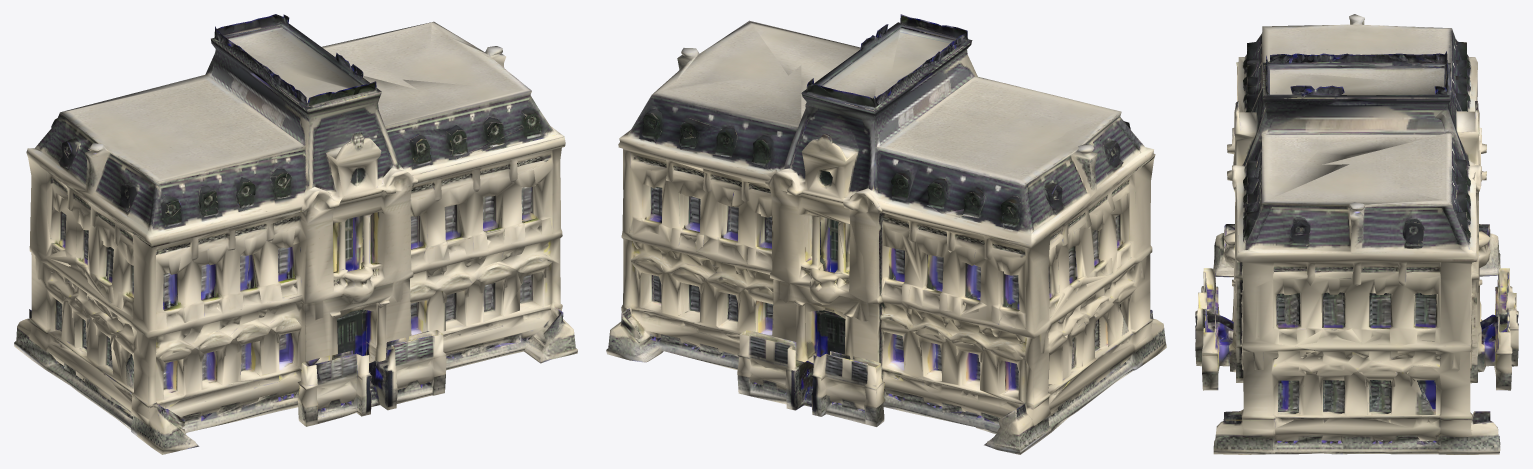
The model's file is ubnd_hotel_de_ville.glb.
3 views of the same model, side by side, from view 1: azimuth 30°, elevation 25°; view 2: azimuth 150°, elevation 25°; view 3: azimuth 270°, elevation 25° (orthographic). The views are drawn at different scales.
Visible parts, largest first — view 1: Mesh_0; view 2: Mesh_0; view 3: Mesh_0.
Part boxes in pixels (x1,y1,x2,y2): Mesh_0: (14, 14, 577, 454); Mesh_0: (606, 14, 1166, 454); Mesh_0: (1195, 14, 1518, 454).
Size of the model in its own units: 1.9 by 1.31 by 1.32.
1 material, 1 textured.
